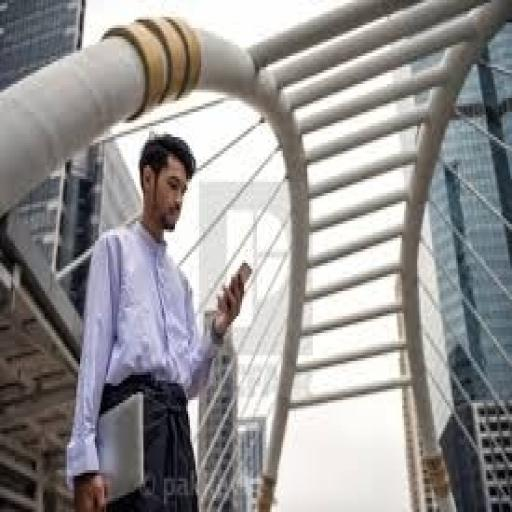texting: (64, 129, 254, 509)
